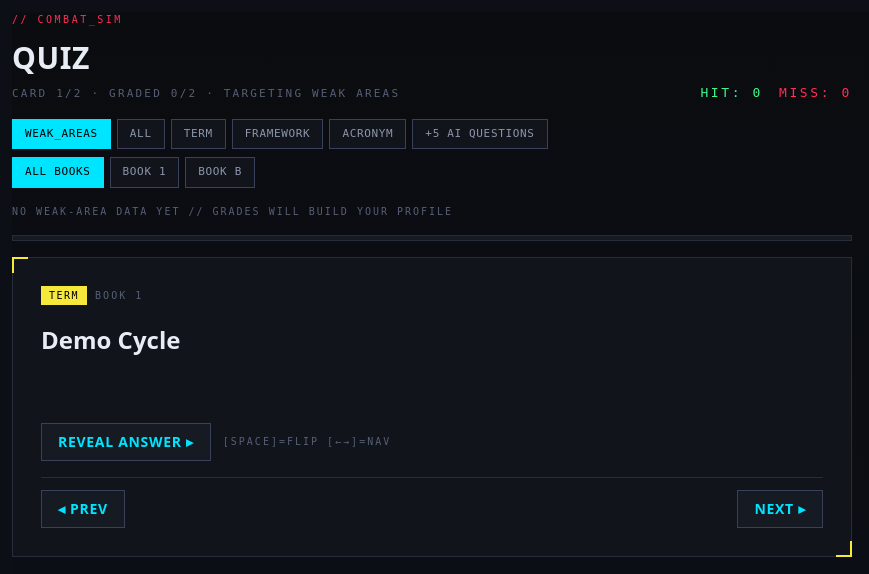
Scenario: PREV and NEXT buttons move between cards
Expected: the text "Demo Cycle" is shown, left=41, top=322, right=180, bottom=356
Step 1. Click the button with aria-label "next card" → point(780, 508), box left=738, top=490, right=823, bottom=528
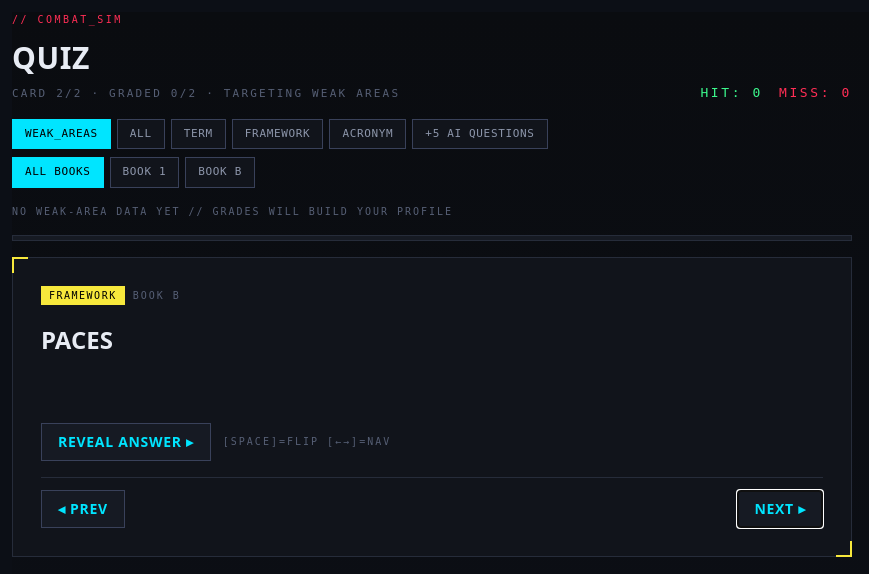
Expected: the text "Demo Cycle" is gone
Step 2. Click the button with aria-label "previous card" → point(83, 508), box left=41, top=490, right=125, bottom=528
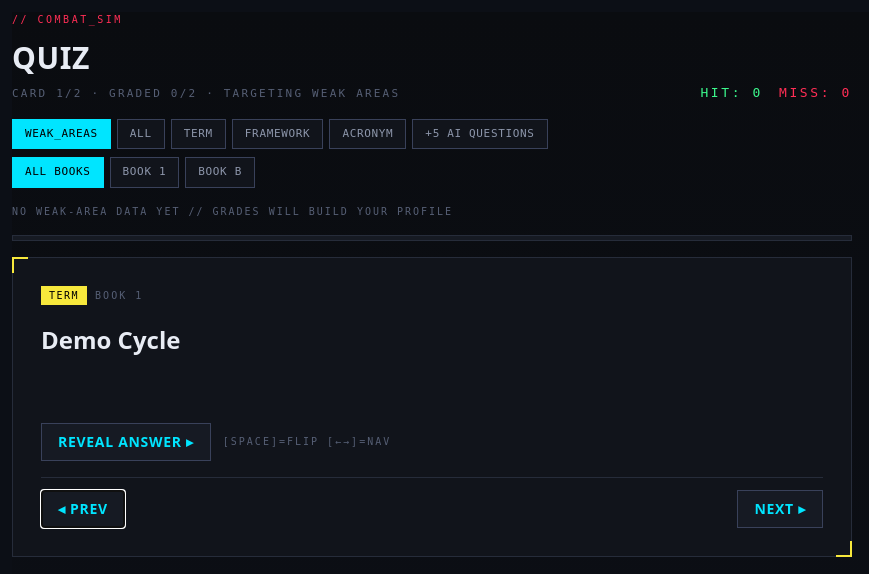
Expected: the text "Demo Cycle" is shown, left=41, top=322, right=180, bottom=356
